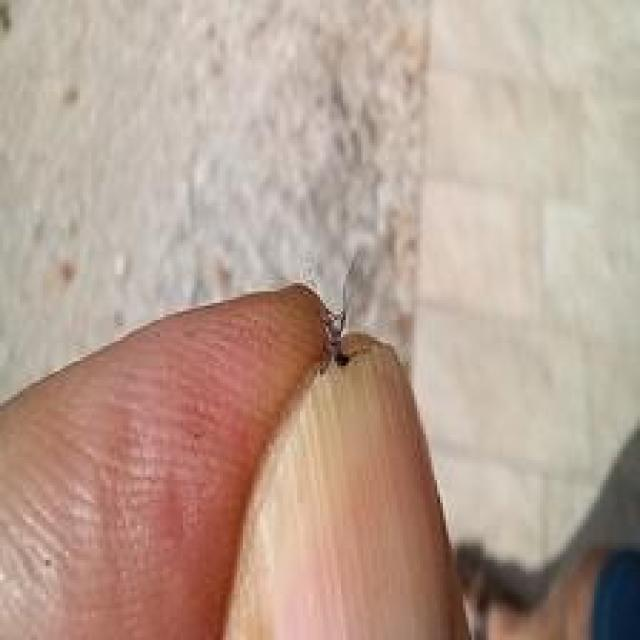Aedes albopictus: (204, 245, 489, 640)
